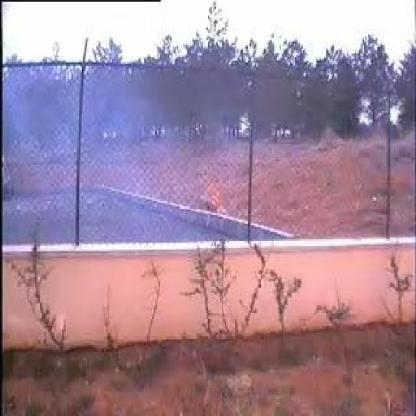-: (43, 74, 199, 235)
